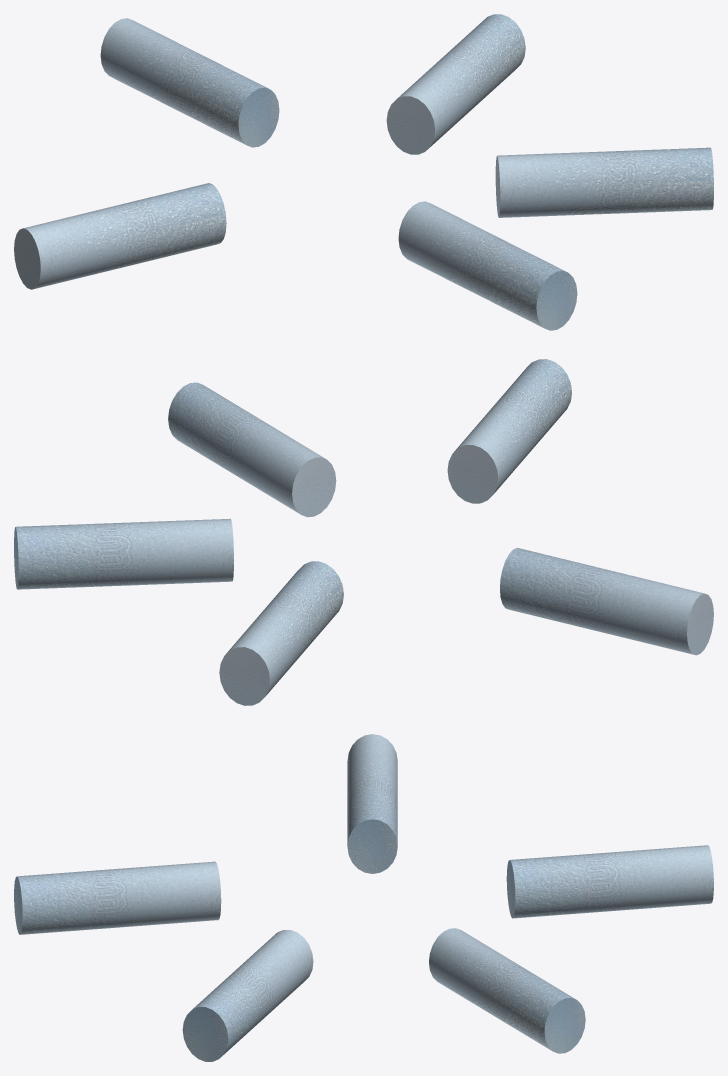
Rendered from caminos.obj.
3 views of the same model, one above another, from view 1: azimuth 30°, elevation 25°; view 2: azimuth 150°, elevation 25°; view 3: azimuth 270°, elevation 25° (orthographic). The views are drawn at different scales.
Parts seen in each view (by area): view 1: pasted__pasted__pCylinder1 pasted__group5 group6, pasted__pasted__pasted__pasted__pCylinder1 pasted__pasted__paste, pCylinder1, pasted__pCylinder1 group5, pasted__pasted__pasted__pCylinder1 pasted__pasted__group5 pasted; view 2: pasted__pasted__pasted__pCylinder1 pasted__pasted__group5 pasted, pasted__pasted__pasted__pasted__pCylinder1 pasted__pasted__paste, pasted__pasted__pCylinder1 pasted__group5 group6, pasted__pCylinder1 group5, pCylinder1; view 3: pCylinder1, pasted__pCylinder1 group5, pasted__pasted__pasted__pCylinder1 pasted__pasted__group5 pasted, pasted__pasted__pCylinder1 pasted__group5 group6, pasted__pasted__pasted__pasted__pCylinder1 pasted__pasted__paste.
Part boxes in pixels (x1,y1,x2,y2): pasted__pasted__pCylinder1 pasted__group5 group6: (495,147,713,217); pasted__pasted__pasted__pasted__pCylinder1 pasted__pasted__paste: (14,183,226,289); pCylinder1: (100,18,279,147); pasted__pCylinder1 group5: (398,201,577,330); pasted__pasted__pasted__pCylinder1 pasted__pasted__group5 pasted: (386,14,525,154); pasted__pasted__pasted__pCylinder1 pasted__pasted__group5 pasted: (14,518,233,589); pasted__pasted__pasted__pasted__pCylinder1 pasted__pasted__paste: (500,548,713,655); pasted__pasted__pCylinder1 pasted__group5 group6: (168,382,336,517); pasted__pCylinder1 group5: (447,359,571,503); pCylinder1: (219,561,343,705); pCylinder1: (506,845,713,918); pasted__pCylinder1 group5: (14,861,221,934); pasted__pasted__pasted__pCylinder1 pasted__pasted__group5 pasted: (429,928,585,1053); pasted__pasted__pCylinder1 pasted__group5 group6: (182,930,313,1061); pasted__pasted__pasted__pasted__pCylinder1 pasted__pasted__paste: (347,734,397,873).
Bounding box in the file's own units: 130 × 14.67 × 139.
Materials: 1 (1 with a texture image).
